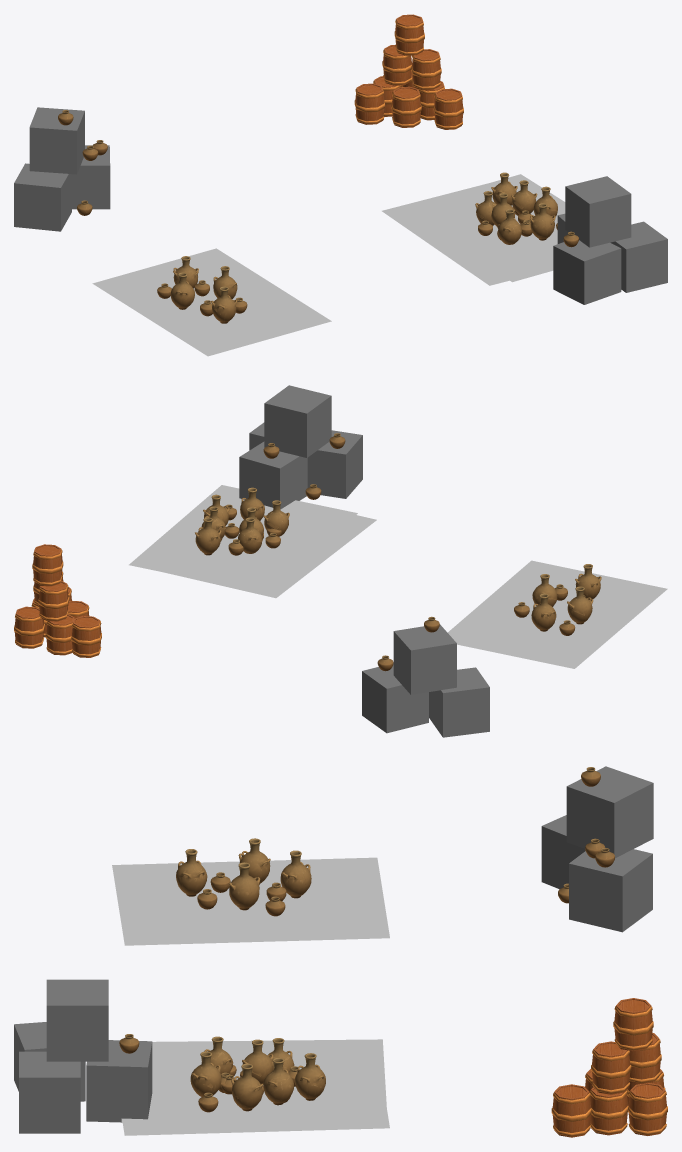
The model's file is [BreakableRoom].fbx.
The picture shows the model from 3 angles, top to bottom: view 1: azimuth 30°, elevation 25°; view 2: azimuth 150°, elevation 25°; view 3: azimuth 270°, elevation 25°; orthographic projection. The views are drawn at different scales.
Visible parts, largest first — view 1: Plane__3_, Plane__3__1, Cube__3_, Cube__1_, Plane, Cube__6_, Cube__5_, Cube, Cube__4_, barrel__8_, barrel__3_, barrel__5_ (+6 smaller); view 2: Plane__3_, Plane__3__1, Cube__3_, Cube__6_, Cube__2_, Cube__5_, Cube__4_, Plane, Cube__1_, barrel__8_, barrel__5_, barrel (+4 smaller); view 3: Plane__3_, Plane__3__1, Plane, Cube__6_, Cube__4_, Cube__3_, Cube, Cube__2_, Cube__5_, barrel__8_, barrel__4_, barrel (+12 smaller).
Boxes of the visible parts, <box> form: Plane__3_: <box>92,248,331,356</box>; Plane__3__1: <box>397,174,565,282</box>; Cube__3_: <box>565,176,631,247</box>; Cube__1_: <box>553,240,621,304</box>; Plane: <box>382,178,548,285</box>; Cube__6_: <box>29,107,84,174</box>; Cube__5_: <box>14,163,71,231</box>; Cube: <box>610,221,667,292</box>; Cube__4_: <box>72,145,110,209</box>; barrel__8_: <box>394,14,424,55</box>; barrel__3_: <box>391,86,421,127</box>; barrel__5_: <box>354,83,384,124</box>; Plane__3_: <box>447,560,667,668</box>; Plane__3__1: <box>129,485,357,593</box>; Cube__3_: <box>264,385,331,457</box>; Cube__6_: <box>393,624,456,694</box>; Cube__2_: <box>239,441,307,509</box>; Cube__5_: <box>429,667,489,737</box>; Cube__4_: <box>362,663,428,733</box>; Plane: <box>161,494,376,598</box>; Cube__1_: <box>307,430,362,498</box>; barrel__8_: <box>32,544,63,586</box>; barrel__5_: <box>71,616,101,657</box>; barrel: <box>14,606,44,648</box>; Plane__3_: <box>112,857,389,945</box>; Plane__3__1: <box>122,1047,389,1135</box>; Plane: <box>121,1039,387,1122</box>; Cube__6_: <box>566,766,653,858</box>; Cube__4_: <box>569,849,652,932</box>; Cube__3_: <box>46,979,108,1061</box>; Cube: <box>19,1051,80,1133</box>; Cube__2_: <box>86,1040,152,1122</box>; Cube__5_: <box>541,815,585,888</box>; barrel__8_: <box>613,998,653,1051</box>; barrel__4_: <box>551,1084,591,1137</box>; barrel: <box>628,1083,667,1135</box>.
Bounding box in the file's own units: 1869 × 402 × 1853.
